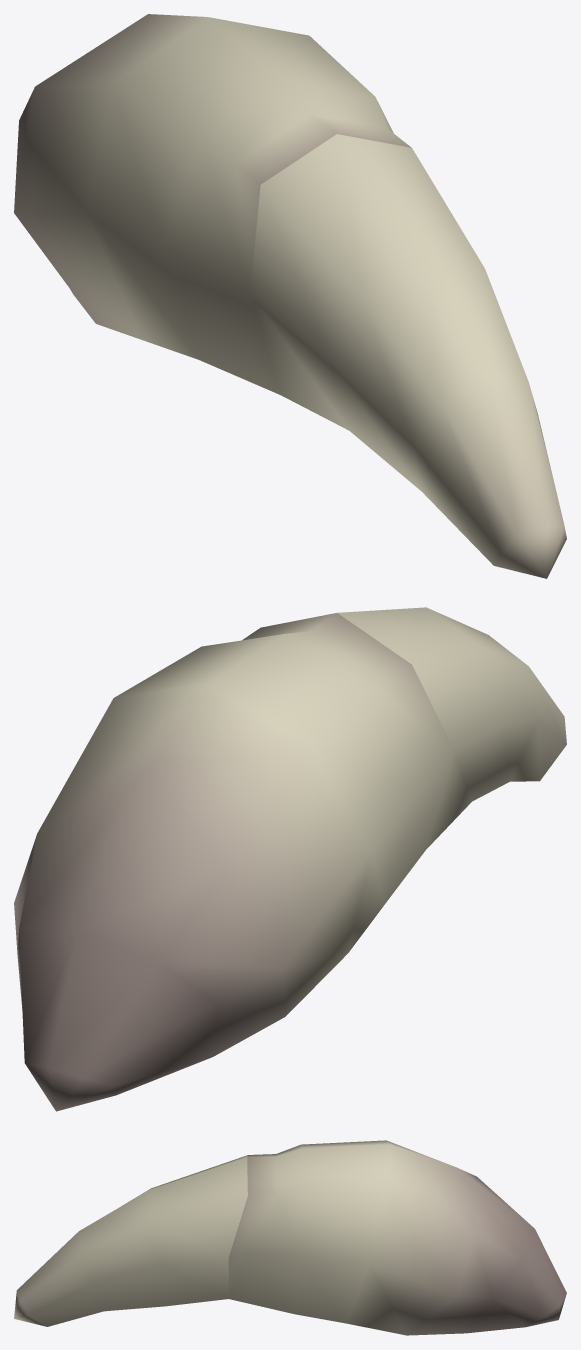
3 views of the same model, one above another, from view 1: azimuth 30°, elevation 25°; view 2: azimuth 150°, elevation 25°; view 3: azimuth 270°, elevation 25° (orthographic). The views are drawn at different scales.
Parts seen in each view (by area): view 1: alt3; view 2: alt3; view 3: alt3.
Part boxes in pixels (x1,y1,x2,y2): alt3: (14, 14, 566, 578); alt3: (14, 607, 566, 1111); alt3: (14, 1140, 566, 1335).
Bounding box in the file's own units: 0.1654 × 0.1777 × 0.5.
